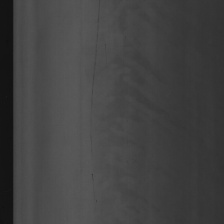inclusion: (87, 1, 101, 203)
